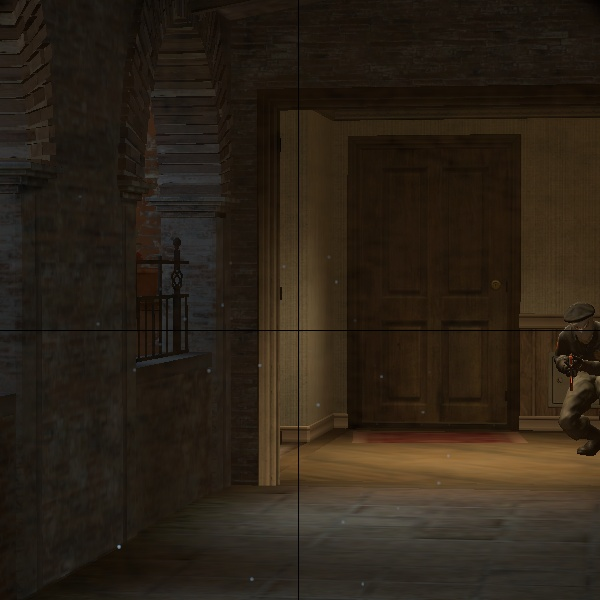t_body: (546, 298, 599, 463)
